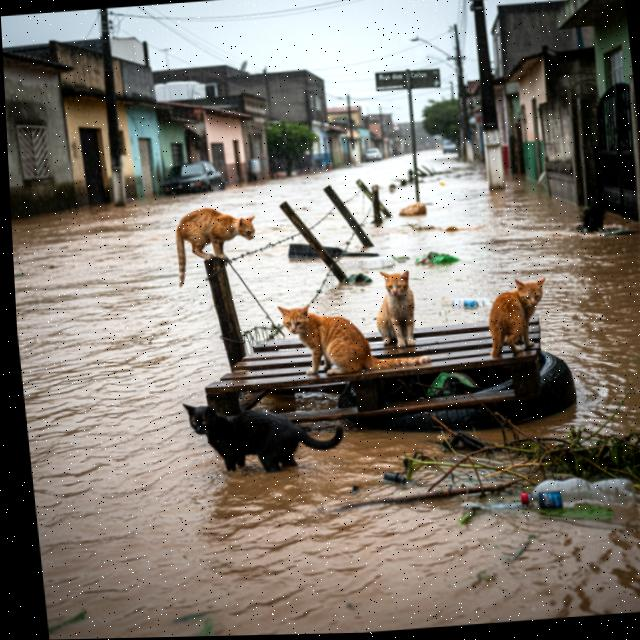cat: (177, 388, 352, 483), (276, 292, 435, 384), (160, 202, 270, 290), (478, 269, 558, 362), (370, 264, 426, 355)
